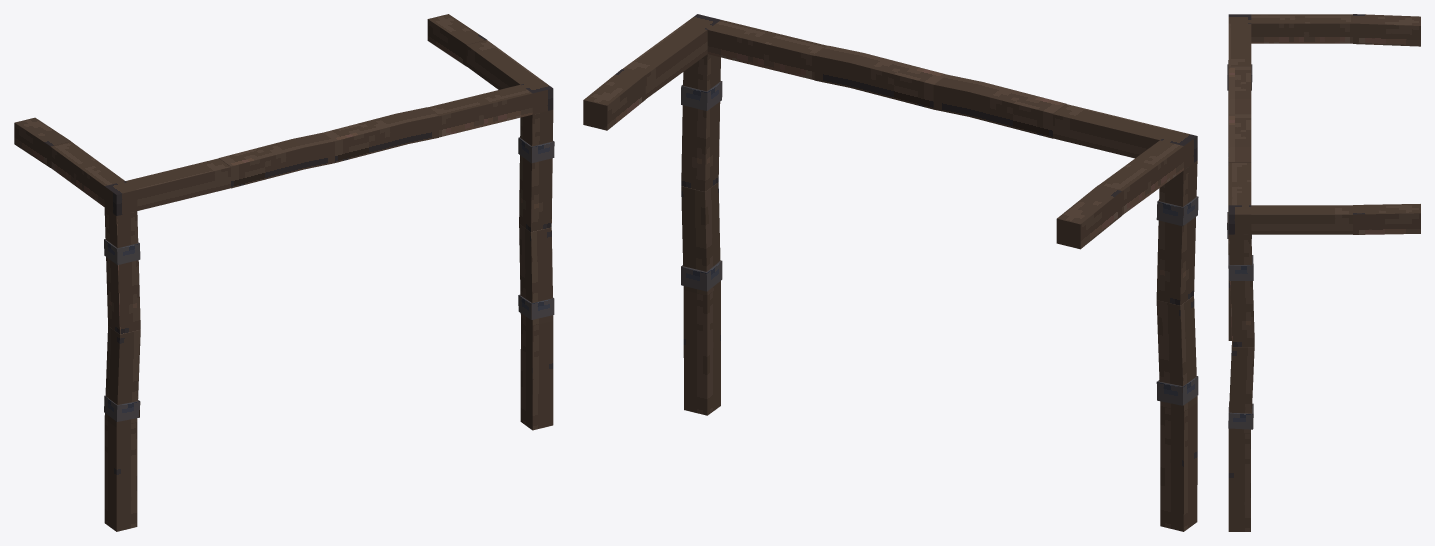
File: wood_support_half.glb
3 views of the same model, side by side, from view 1: azimuth 30°, elevation 25°; view 2: azimuth 150°, elevation 25°; view 3: azimuth 270°, elevation 25° (orthographic). The views are drawn at different scales.
Parts seen in each view (by area): view 1: wood_support_half; view 2: wood_support_half; view 3: wood_support_half.
Boxes of the visible parts, box(x1,y1,x2,y2) form: wood_support_half: box(14, 14, 554, 531); wood_support_half: box(583, 14, 1198, 531); wood_support_half: box(1227, 14, 1420, 531).
Bounding box in the file's own units: 5.27 × 3.89 × 2.14.
Materials: 1 (1 with a texture image).
